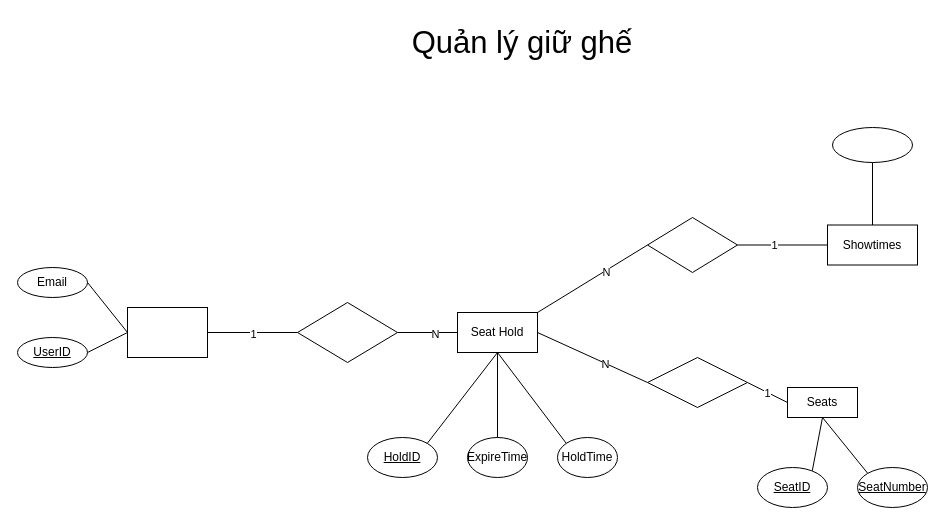
Some shapes in this 945 by 525 pixel diagram are drawn without their labels. Each missing label, with the centre of its shape:
"ghế được giữ" goes at point 697,382.
"Giữ ghế" goes at point 347,332.
"ShowtimeID" goes at point 872,144.
"Suất chiếu" goes at point 692,244.
"Users" goes at point 167,332.
